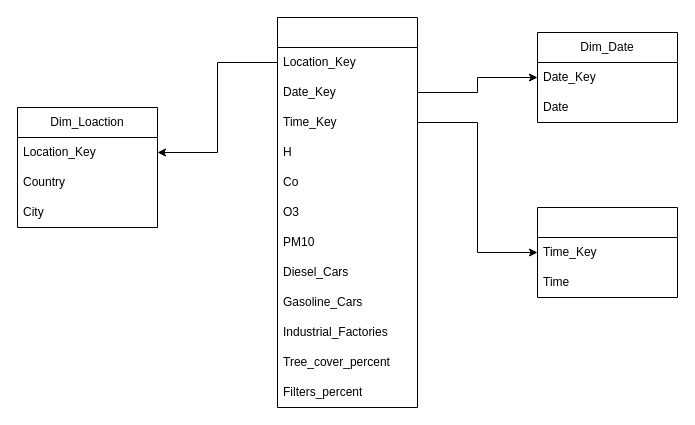
Image size: 695x425. Some labels were removed from this diagram. The shapes that lost their labels are listed below. From the top down, each one's box as (x1, y1, x2, y2) in pixels, then its label:
(276, 16, 418, 408): Fact_Table
(536, 206, 678, 298): Dim_Time
